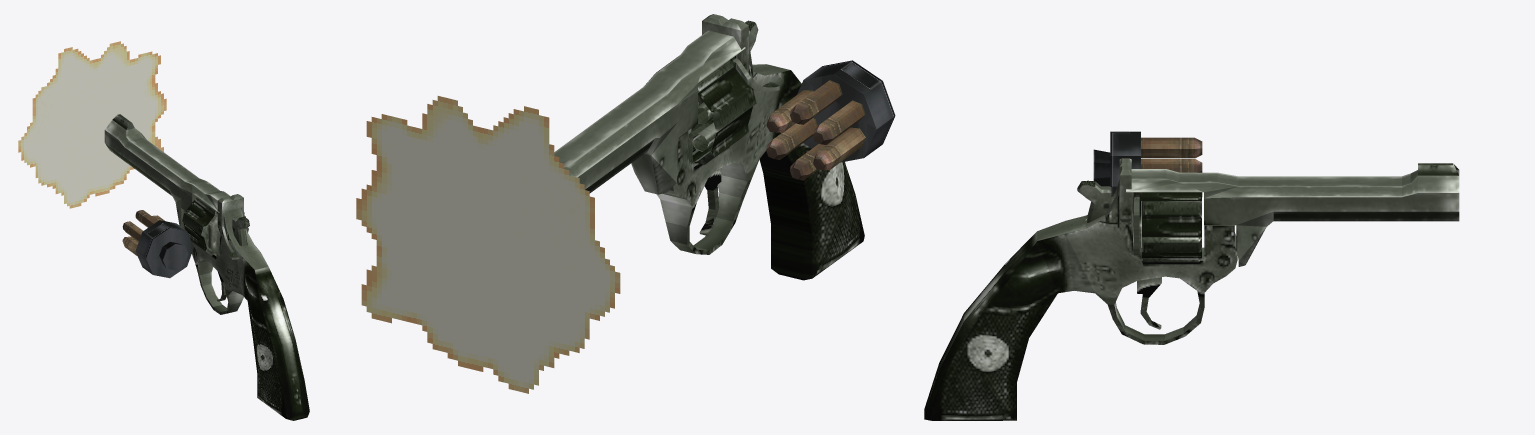
Rendered from Wpn_Enfield38.fbx.
3 views of the same model, side by side, from view 1: azimuth 30°, elevation 25°; view 2: azimuth 150°, elevation 25°; view 3: azimuth 270°, elevation 25° (orthographic). The views are drawn at different scales.
Parts seen in each view (by area): view 1: flash, fpv_weapon, gunpoint, speedloader, barrel, safety, ammo, hammer; view 2: flash, fpv_weapon, gunpoint, ammo, barrel, speedloader, safety, cock; view 3: fpv_weapon, gunpoint, barrel, ammo, speedloader, hammer, safety, cock.
Part boxes in pixels (box(x1,y1,x2,y2)): flash: box(18, 41, 166, 208); fpv_weapon: box(183, 208, 309, 420); gunpoint: box(104, 114, 230, 228); speedloader: box(135, 220, 193, 278); barrel: box(182, 197, 248, 255); safety: box(217, 194, 243, 259); ammo: box(122, 210, 165, 255); hammer: box(231, 216, 249, 246); flash: box(356, 96, 620, 393); fpv_weapon: box(656, 55, 864, 280); gunpoint: box(554, 30, 745, 194); ammo: box(766, 80, 865, 180); barrel: box(692, 60, 756, 164); speedloader: box(797, 60, 895, 162); safety: box(702, 14, 779, 91); cock: box(699, 168, 721, 235); fpv_weapon: box(924, 179, 1237, 420); gunpoint: box(1126, 163, 1459, 266); barrel: box(1142, 192, 1201, 262); ammo: box(1141, 137, 1202, 200); speedloader: box(1093, 131, 1140, 196); hammer: box(1077, 180, 1114, 223); safety: box(1119, 158, 1131, 222); cock: box(1137, 277, 1161, 329).
Size of the model in its own units: 17.53 by 23.01 by 36.2.
